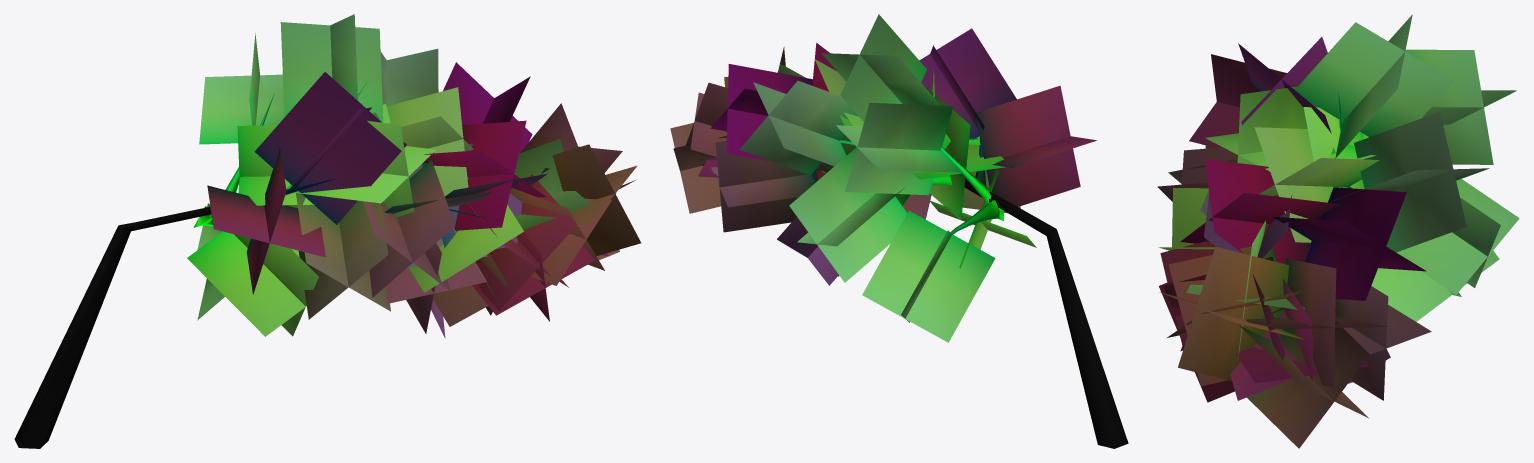
The model's file is URP_P7_Tree_7_LOD_3.fbx.
The picture shows the model from 3 angles, left to right: view 1: azimuth 30°, elevation 25°; view 2: azimuth 150°, elevation 25°; view 3: azimuth 270°, elevation 25°; orthographic projection. The views are drawn at different scales.
Visible parts, largest first — view 1: Tree_7_LOD_3; view 2: Tree_7_LOD_3; view 3: Tree_7_LOD_3.
Part boxes in pixels (<box>): Tree_7_LOD_3: <box>14,14,641,448</box>; Tree_7_LOD_3: <box>670,14,1128,448</box>; Tree_7_LOD_3: <box>1157,14,1519,448</box>.
Bounding box in the file's own units: 486 × 314 × 250.
